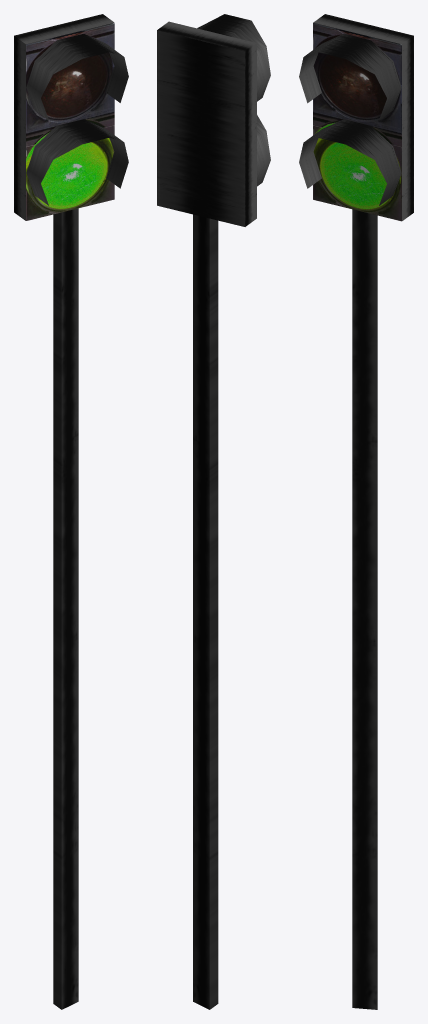
The model's file is trafficSignal2Way.obj.
The picture shows the model from 3 angles, left to right: view 1: azimuth 30°, elevation 25°; view 2: azimuth 150°, elevation 25°; view 3: azimuth 330°, elevation 25°; orthographic projection.
Parts seen in each view (by area): view 1: pasted__trafficSignal2Way group; view 2: pasted__trafficSignal2Way group; view 3: pasted__trafficSignal2Way group.
Boxes of the visible parts, box(x1,y1,x2,y2) form: pasted__trafficSignal2Way group: box(14, 14, 128, 1009); pasted__trafficSignal2Way group: box(157, 14, 270, 1009); pasted__trafficSignal2Way group: box(299, 14, 413, 1009).
Size of the model in its own units: 0.2787 by 2.93 by 0.2031.
1 material, 1 textured.
